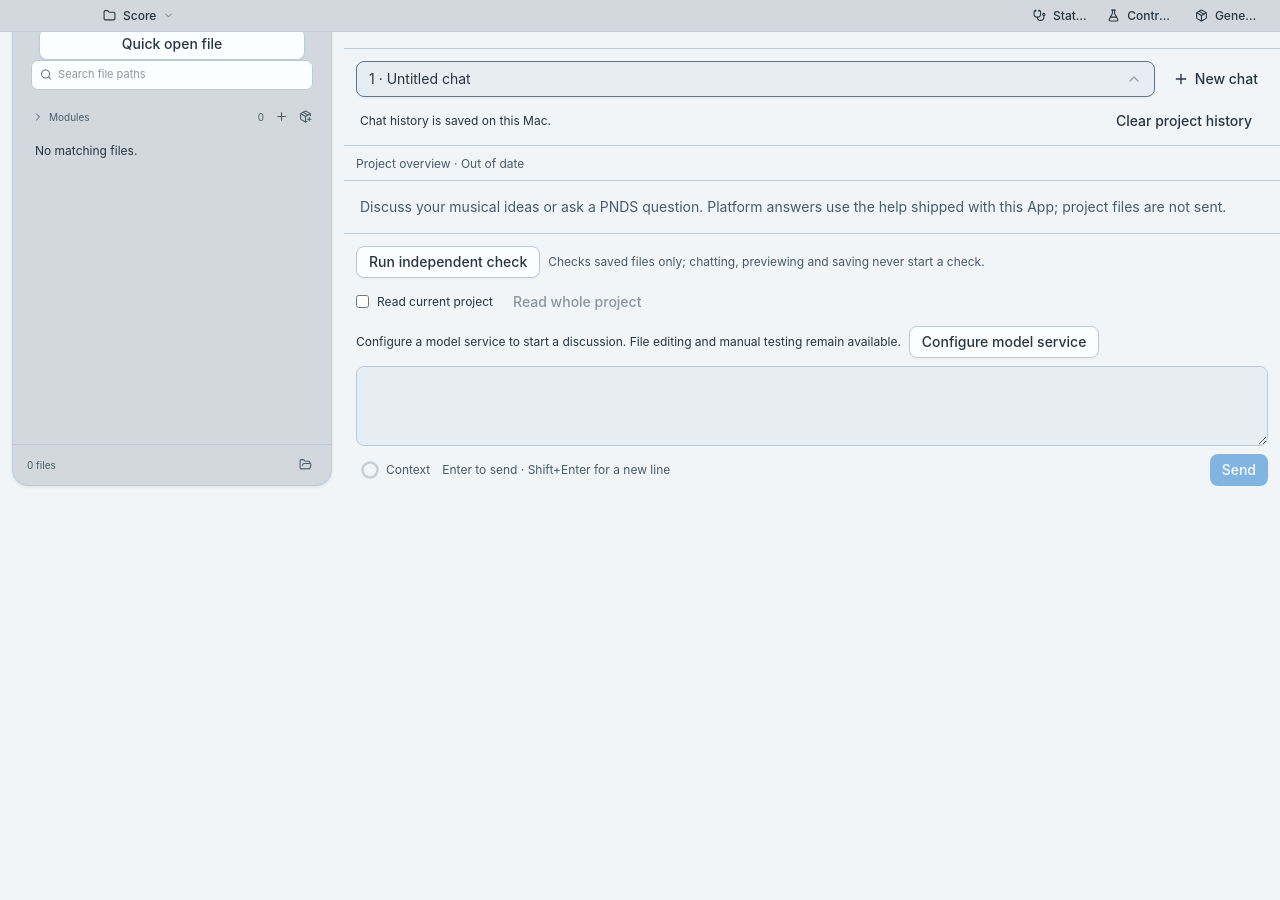
Test: reports partial file publication and retries only the handoff after reloading disk status
This screenshot has width=1280, height=900.
Click the button named "Add PNDS module" at (281, 117), box 269,105 -> 293,129
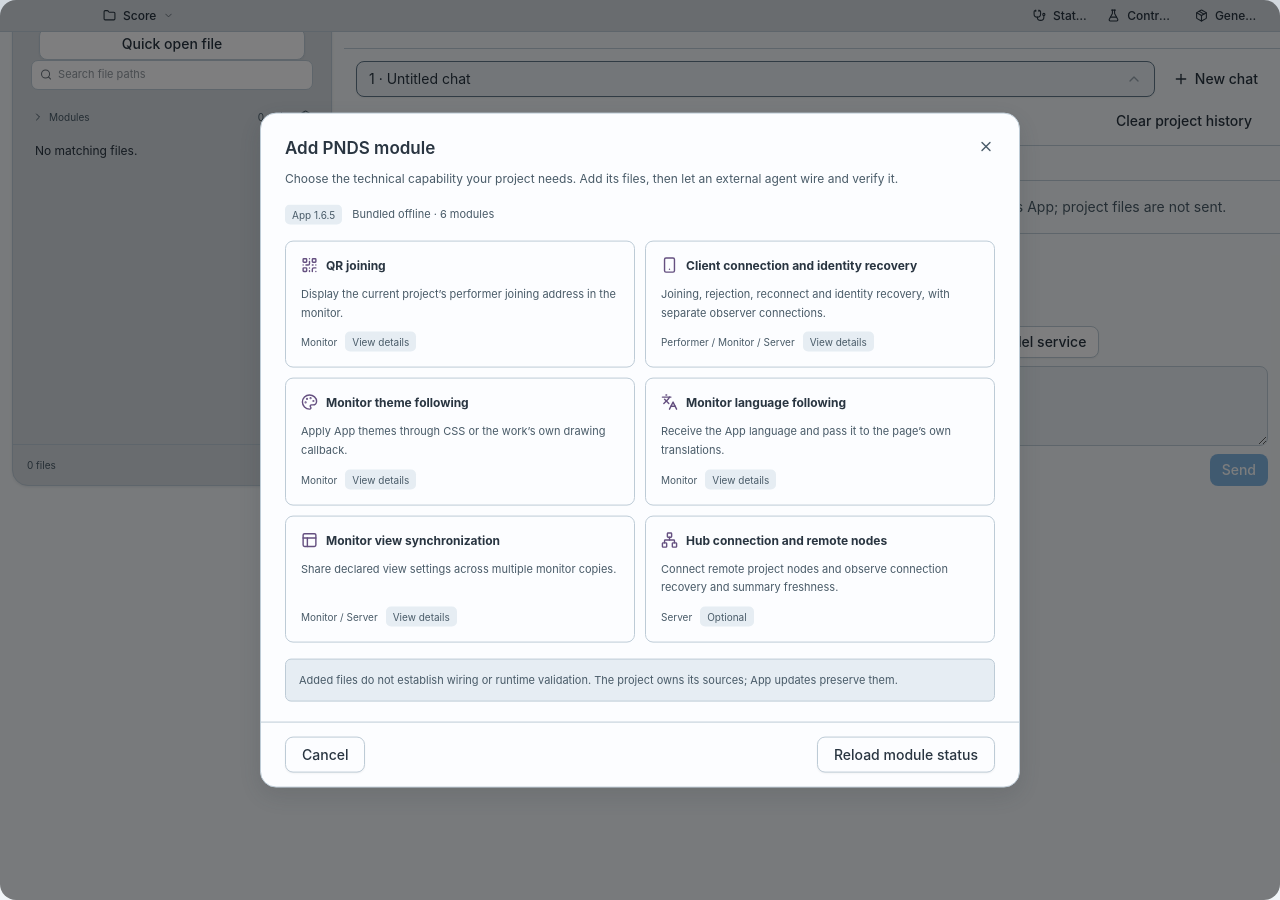
Click the button "QR joining" at (356, 265), box 285,241 -> 635,368
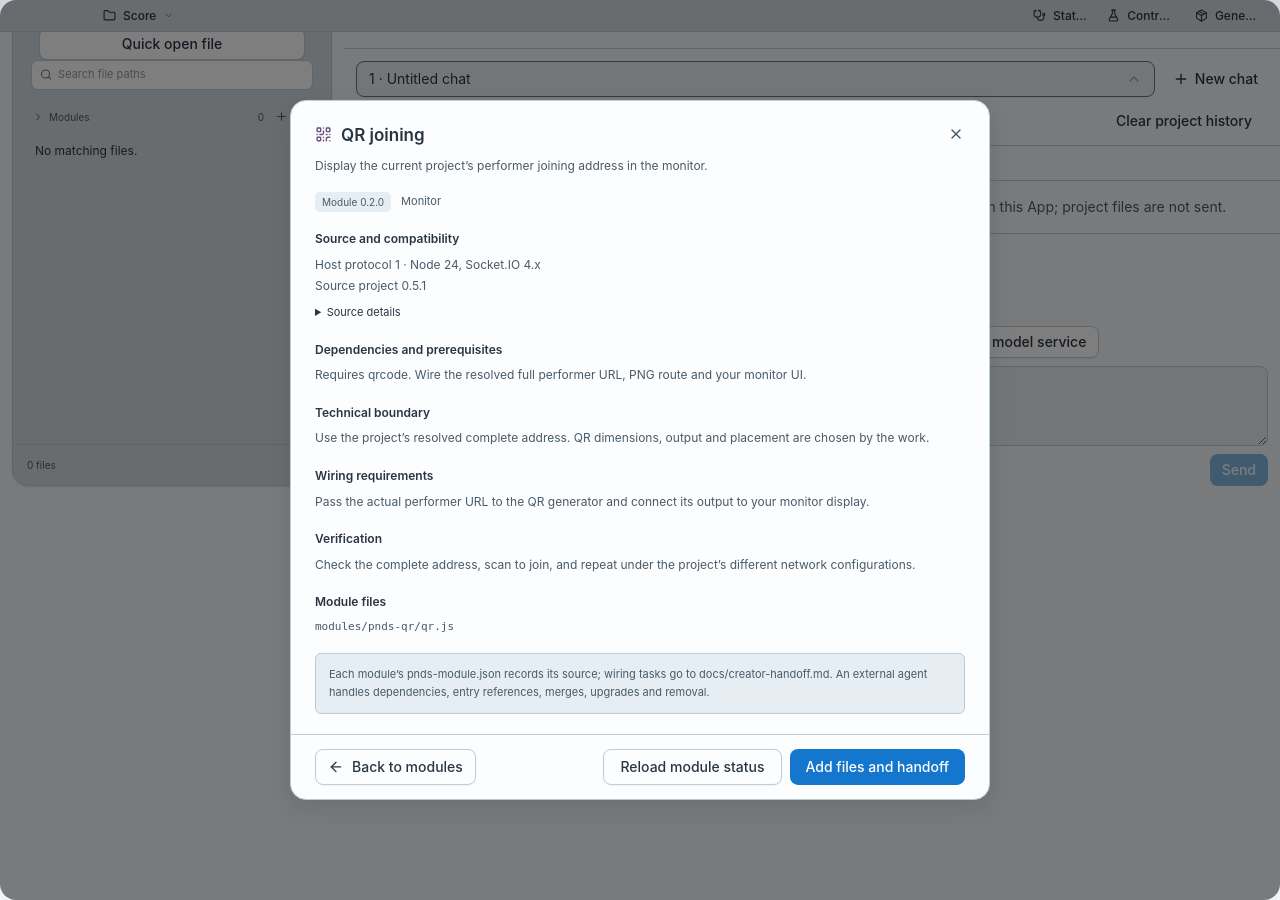
Click the button "Add files and handoff" at (877, 767), box 790,749 -> 965,785
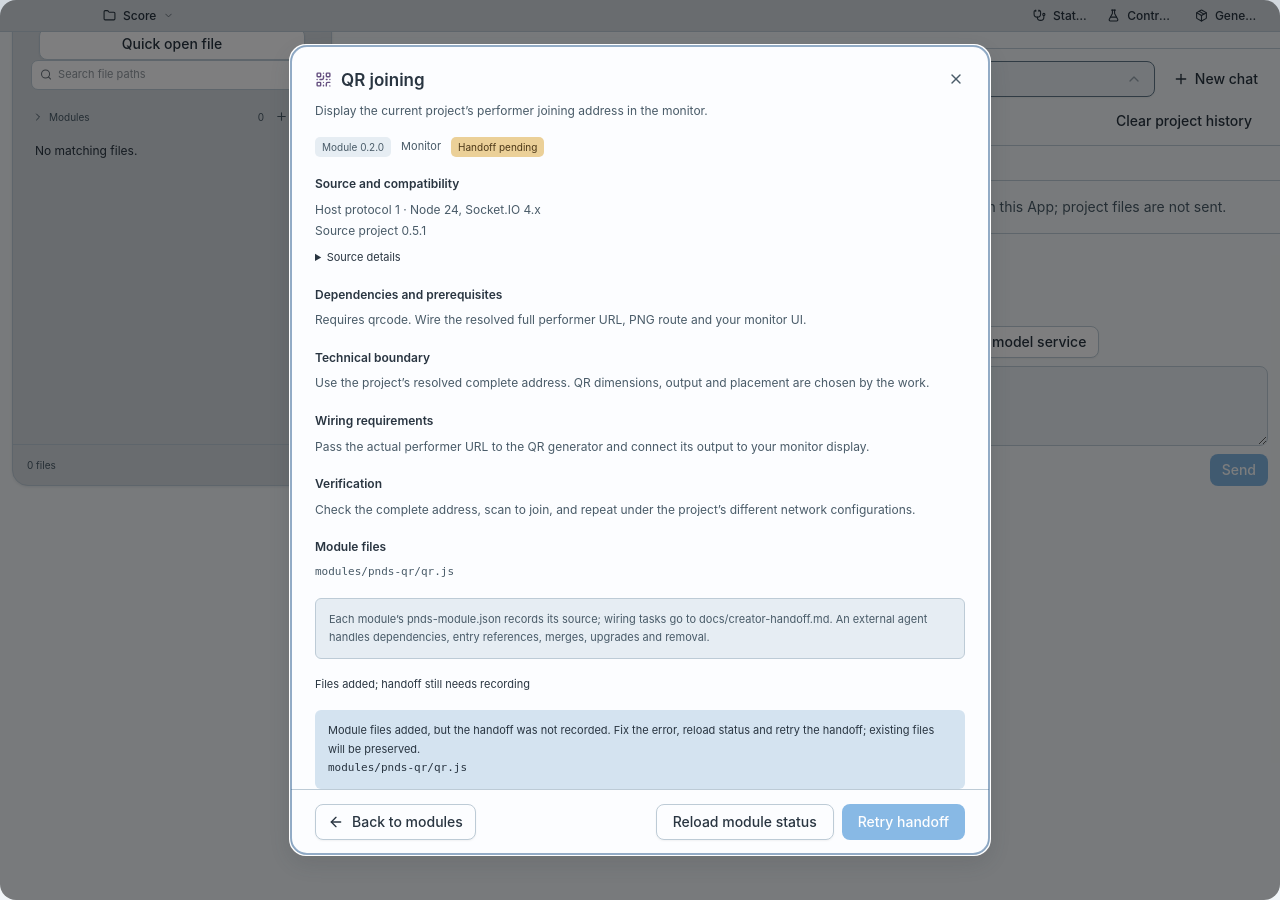
Expected: the text "handoff was not recorded" is shown, 328,723 -> 934,756
Click the button "Reload module status" at (745, 822), box 656,804 -> 834,840
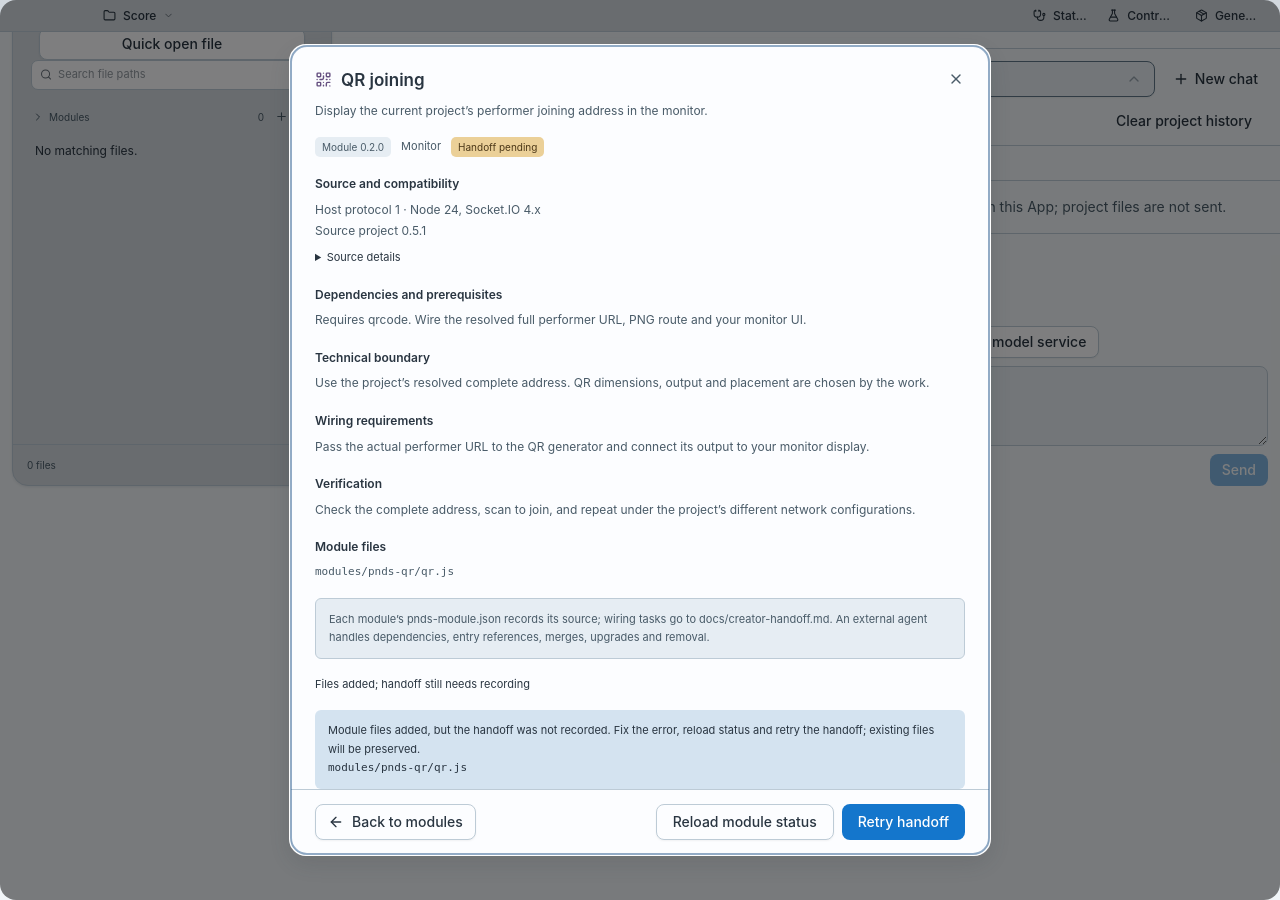
Expected: the button "Retry handoff" is enabled
Click the button "Retry handoff" at (903, 822), box 842,804 -> 965,840
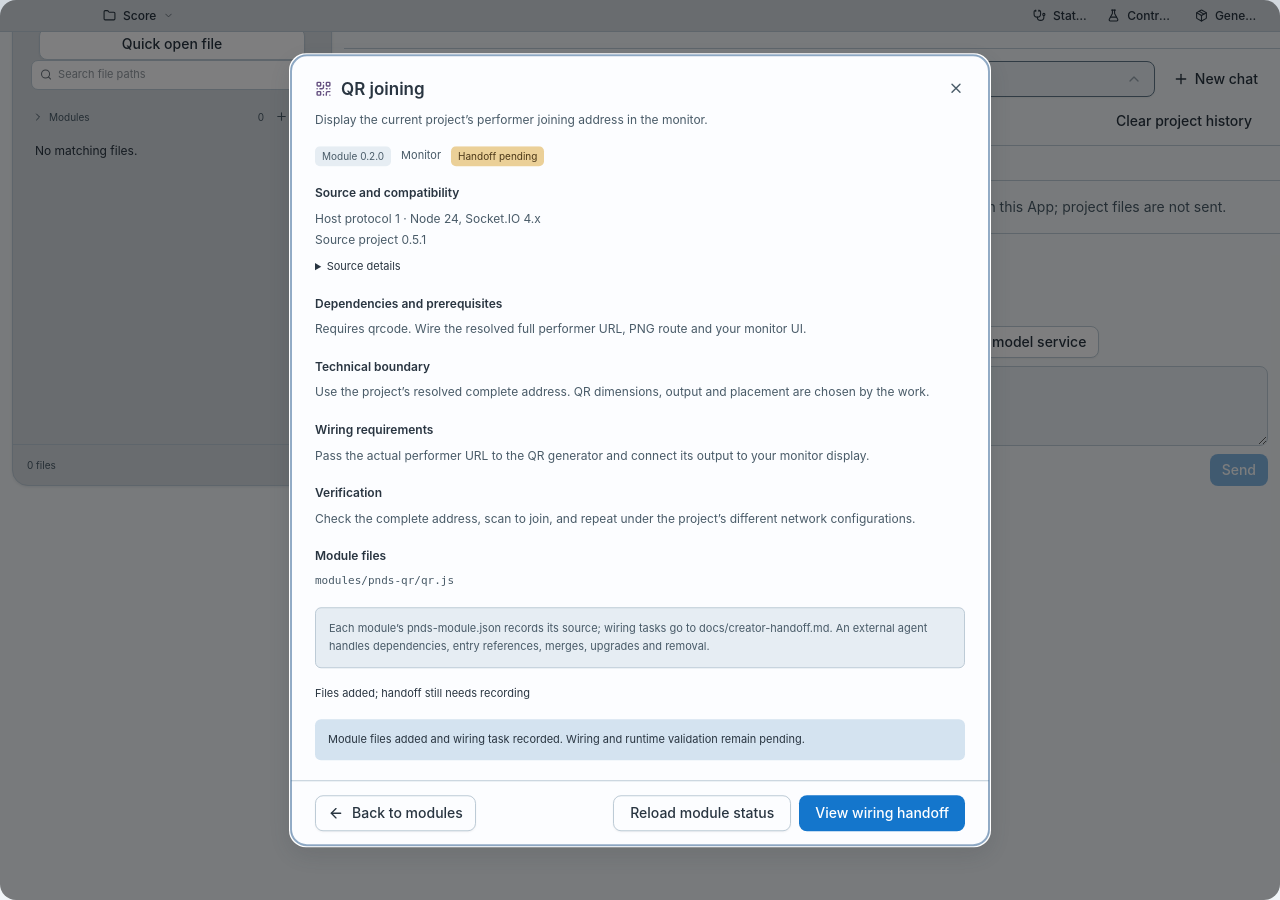
Expected: the text "Module files added and wiring task recorded" is shown, 328,732 -> 805,746
